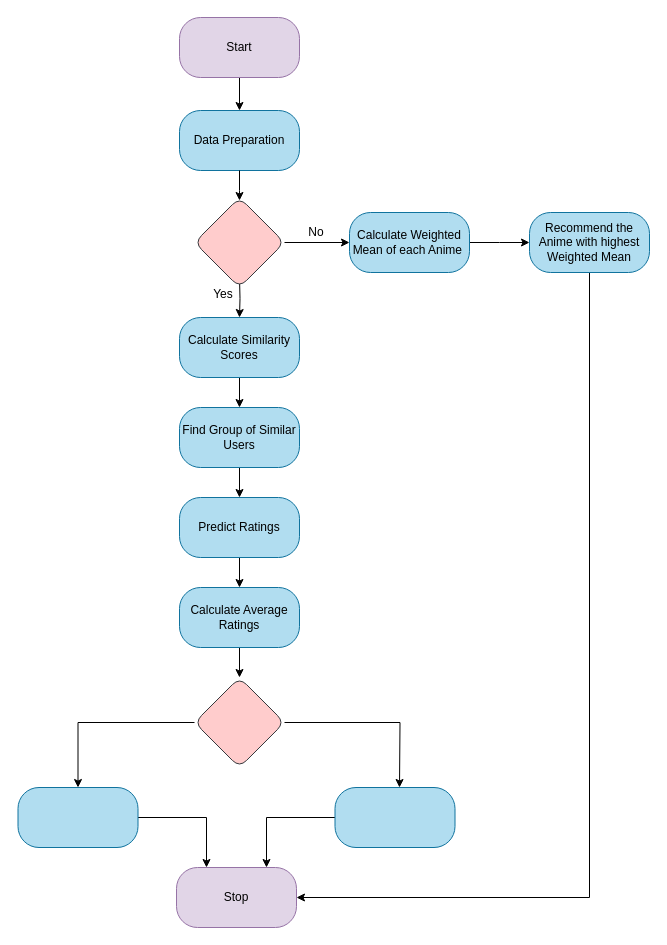
Some shapes in this 667 by 945 pixel diagram are drawn without their labels. Each missing label, with the centre of its shape:
"Average < Predicted Rating?" goes at (x=239, y=722).
"Dont Recommend Book" goes at (x=394, y=817).
"Has Rated Any Anime?" goes at (x=239, y=242).
"Recommend Book" goes at (x=77, y=817).
